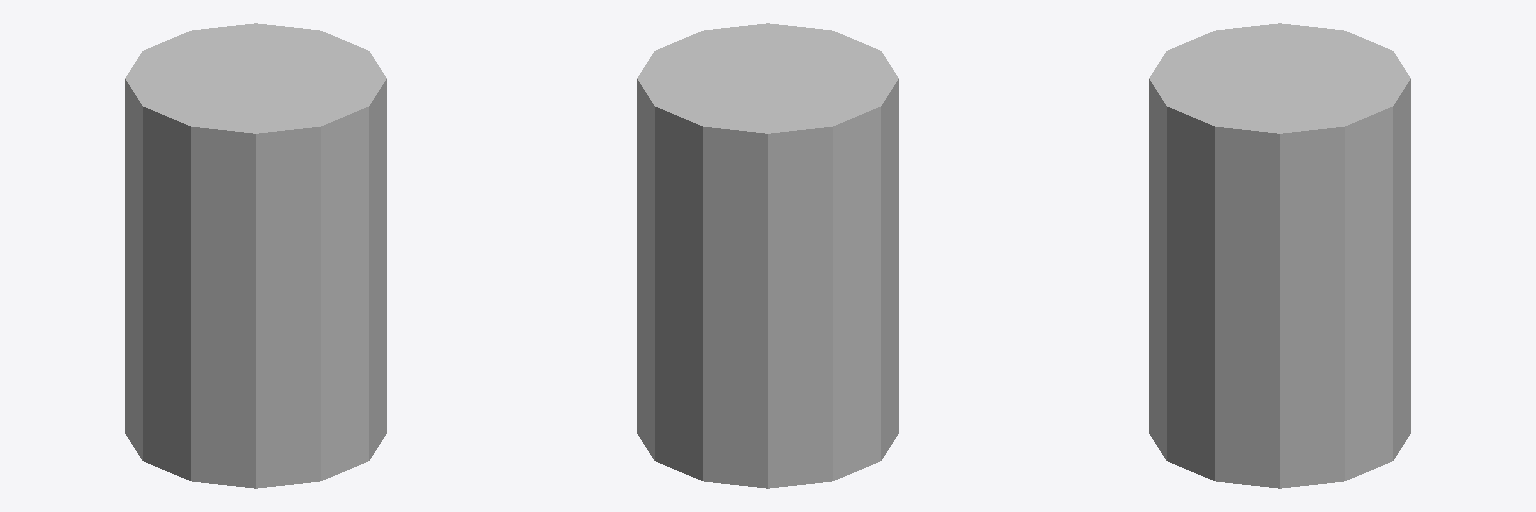
The model's file is mynewcan.obj.
3 renders of one model, left to right at view 1: azimuth 30°, elevation 25°; view 2: azimuth 150°, elevation 25°; view 3: azimuth 270°, elevation 25°, orthographic.
Visible parts, largest first — view 1: Cylinder04; view 2: Cylinder04; view 3: Cylinder04.
Part boxes in pixels (bbox=[...]): Cylinder04: bbox=[125, 23, 386, 488]; Cylinder04: bbox=[637, 23, 898, 488]; Cylinder04: bbox=[1149, 23, 1410, 488].
Size of the model in its own units: 20.14 by 30.14 by 20.14.